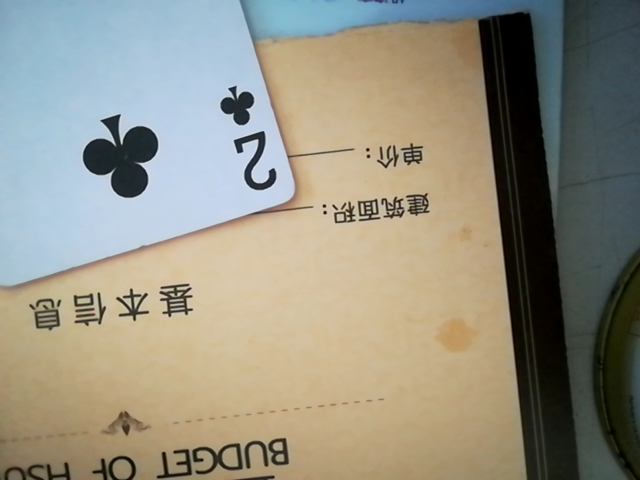mh 2: (1, 0, 300, 306)
